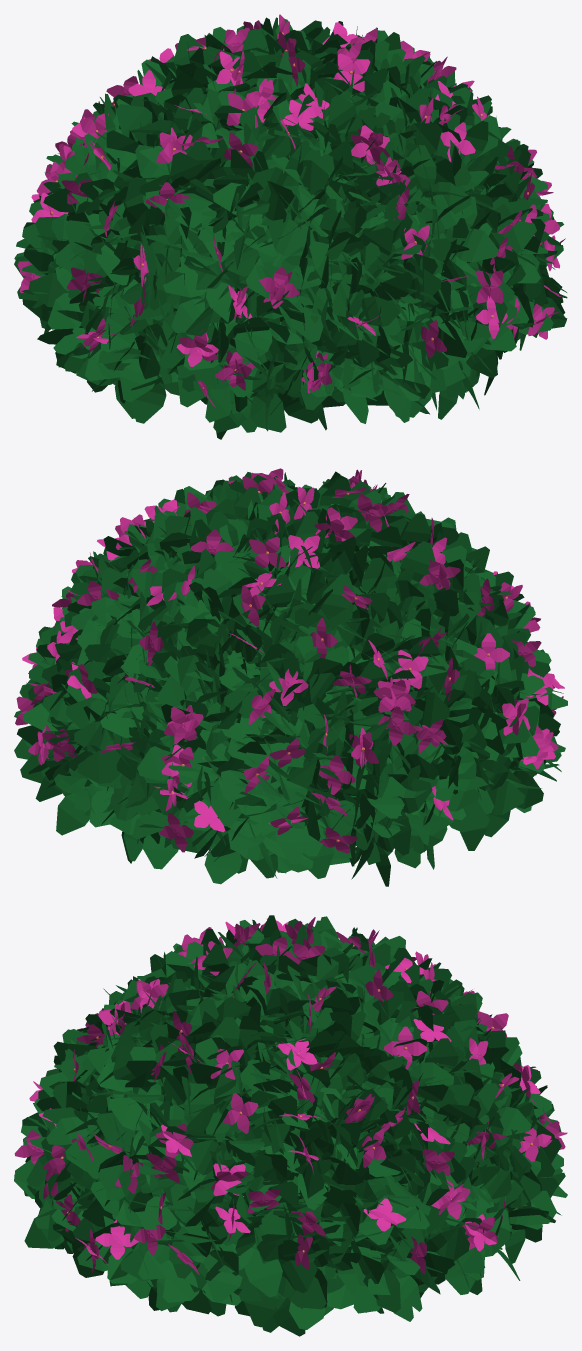
The model's file is Bush2.fbx.
3 views of the same model, one above another, from view 1: azimuth 30°, elevation 25°; view 2: azimuth 150°, elevation 25°; view 3: azimuth 270°, elevation 25° (orthographic).
Parts seen in each view (by area): view 1: leaf.1000; view 2: leaf.1000; view 3: leaf.1000.
Part boxes in pixels (bbox=[...]): leaf.1000: bbox=[14, 14, 567, 439]; leaf.1000: bbox=[14, 468, 567, 886]; leaf.1000: bbox=[14, 915, 567, 1336].
Bounding box in the file's own units: 252 × 152 × 252.
